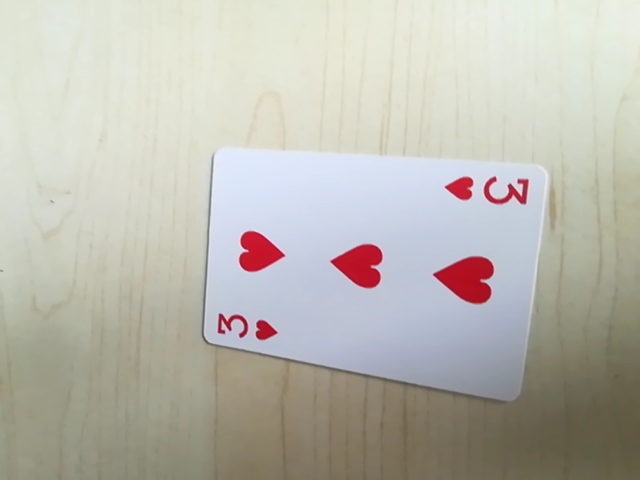hx 3: (441, 168, 534, 212), (211, 307, 282, 347)
